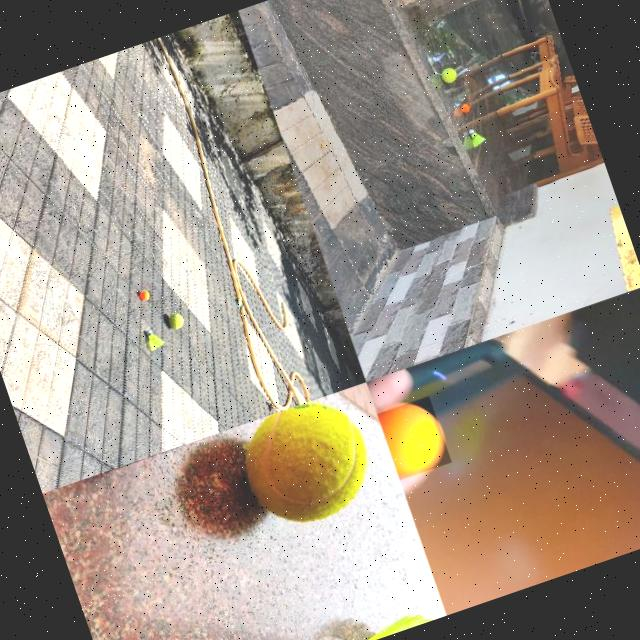ping-pong-ball: (376, 394, 451, 479), (136, 289, 150, 300), (460, 103, 470, 113)
